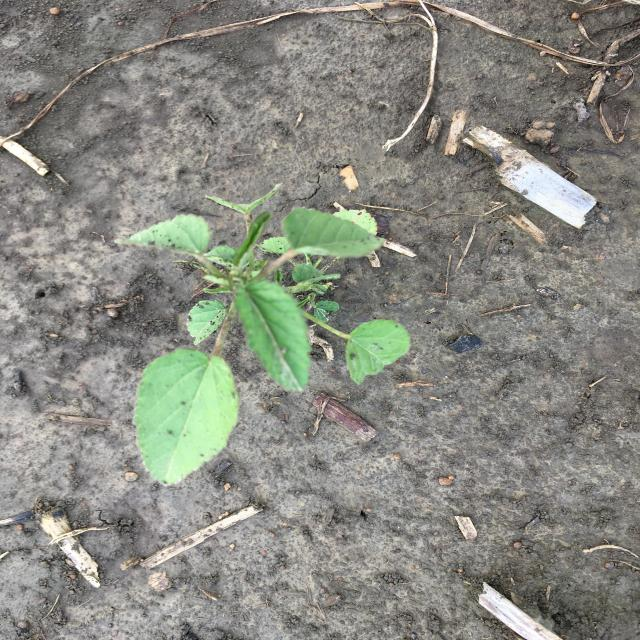PricklySida: (126, 180, 414, 488)
